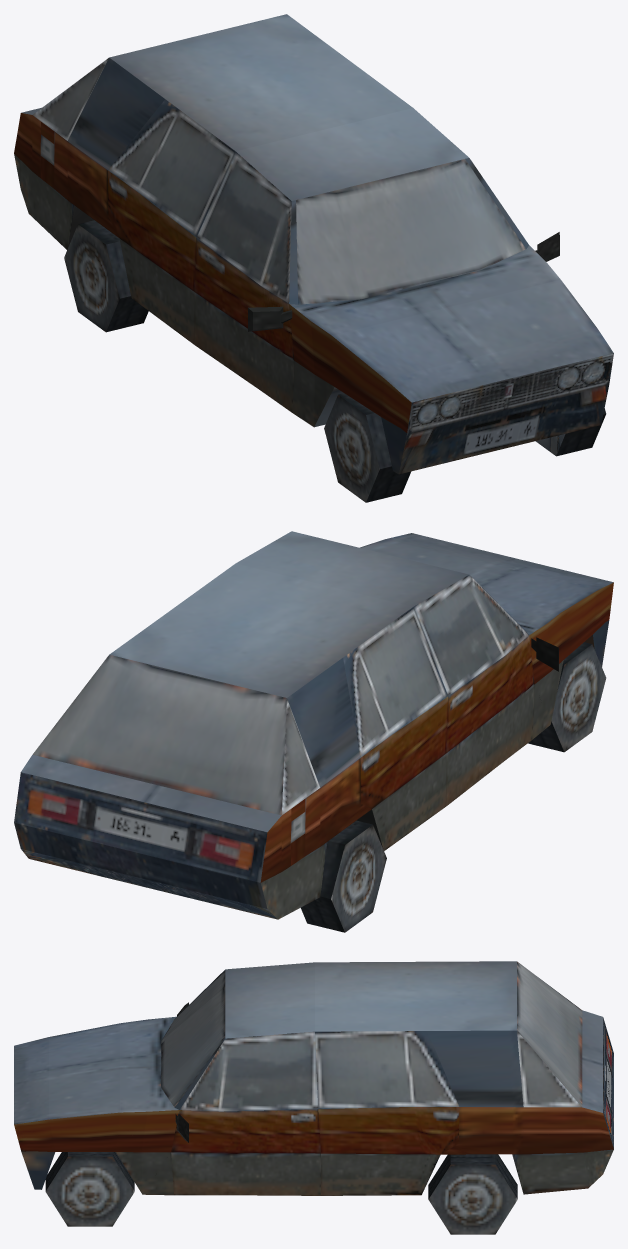
File: Car outside.fbx
3 views of the same model, one above another, from view 1: azimuth 30°, elevation 25°; view 2: azimuth 150°, elevation 25°; view 3: azimuth 270°, elevation 25° (orthographic). The views are drawn at different scales.
Visible parts, largest first — view 1: Car; view 2: Car; view 3: Car, Door.
Boxes of the visible parts, x1=… form: Car: x1=14, y1=14, x2=613, y2=502; Car: x1=14, y1=531, x2=613, y2=932; Car: x1=14, y1=961, x2=613, y2=1234; Door: x1=171, y1=1031, x2=320, y2=1195.
Size of the model in its own units: 221 by 158 by 462.
Materials: 2 (2 with a texture image).
